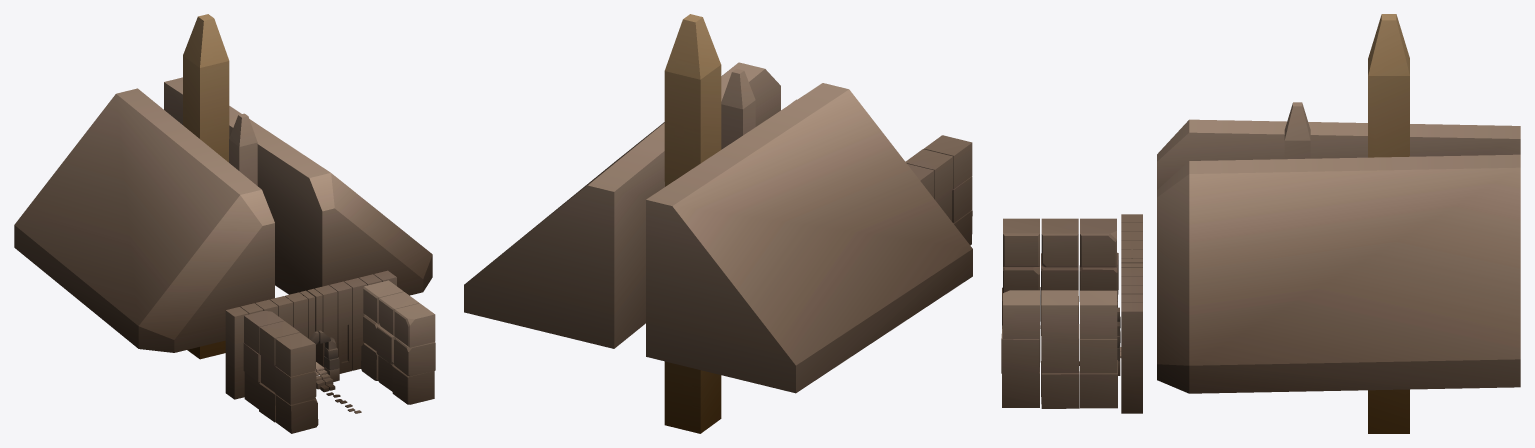
Rendered from Temple.fbx.
The picture shows the model from 3 angles, left to right: view 1: azimuth 30°, elevation 25°; view 2: azimuth 150°, elevation 25°; view 3: azimuth 270°, elevation 25°; orthographic projection. The views are drawn at different scales.
Visible parts, largest first — view 1: Cube.040, Cube, Cube.042, Cube.023, Cube.026, Cube.041, Cube.013, Cube.028, Cube.014, Cube.027, Cube.025, Cube.021 (+10 smaller); view 2: Cube.040, Cube.042, Cube.041, Cube.026, Cube.025, Cube.027; view 3: Cube.040, Cube.042, Cube, Cube.025, Cube.022, Cube.021, Cube.024, Cube.026, Cube.023, Cube.014, Cube.012, Cube.016 (+7 smaller).
Boxes of the visible parts, x1,y1,x2,y2 form: Cube.040: (14,77,432,352); Cube: (225,270,396,399); Cube.042: (183,14,229,359); Cube.023: (394,303,435,347); Cube.026: (275,333,315,376); Cube.041: (229,113,257,185); Cube.013: (392,365,434,404); Cube.028: (275,394,318,433); Cube.014: (394,338,435,376); Cube.027: (275,366,316,404); Cube.025: (259,321,299,365); Cube.021: (363,280,403,324); Cube.040: (464,62,972,393); Cube.042: (664,14,721,433); Cube.041: (721,68,755,149); Cube.026: (923,135,972,188); Cube.025: (905,149,953,201); Cube.027: (952,176,972,222); Cube.040: (1157,119,1520,393); Cube.042: (1368,14,1409,433); Cube: (1121,214,1142,413); Cube.025: (1041,218,1078,267); Cube.022: (1041,290,1078,338); Cube.021: (1080,290,1117,338); Cube.024: (1080,218,1116,267); Cube.026: (1003,218,1039,266); Cube.023: (1003,290,1039,338); Cube.014: (1001,325,1040,374); Cube.012: (1041,361,1079,408); Cube.016: (1080,360,1117,408).
Size of the model in its own units: 10643 by 11482 by 13239.
